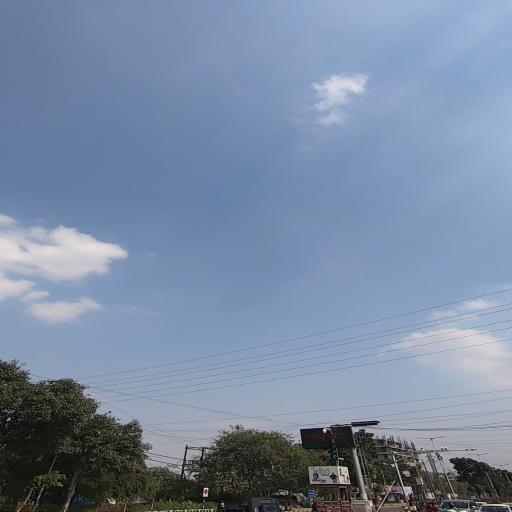Street_light: (412, 435, 428, 441), (430, 435, 444, 441), (478, 451, 492, 457), (464, 452, 478, 457)
